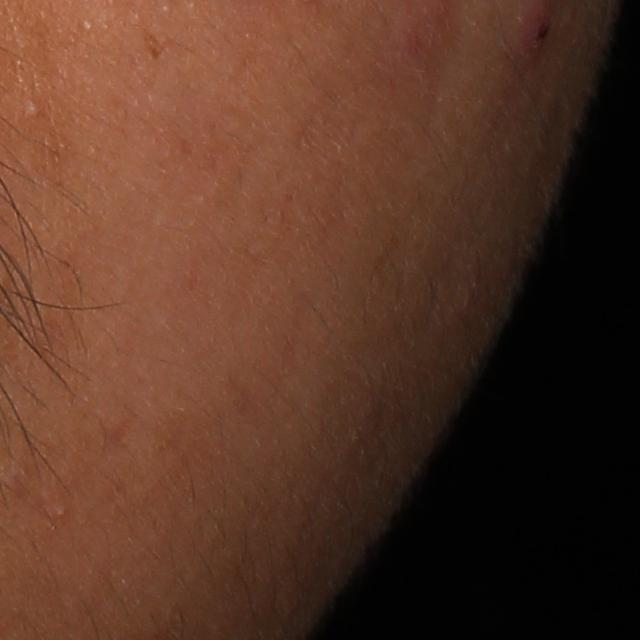comedo: (22, 96, 50, 120), (52, 506, 69, 519)
papule: (510, 1, 555, 70)
